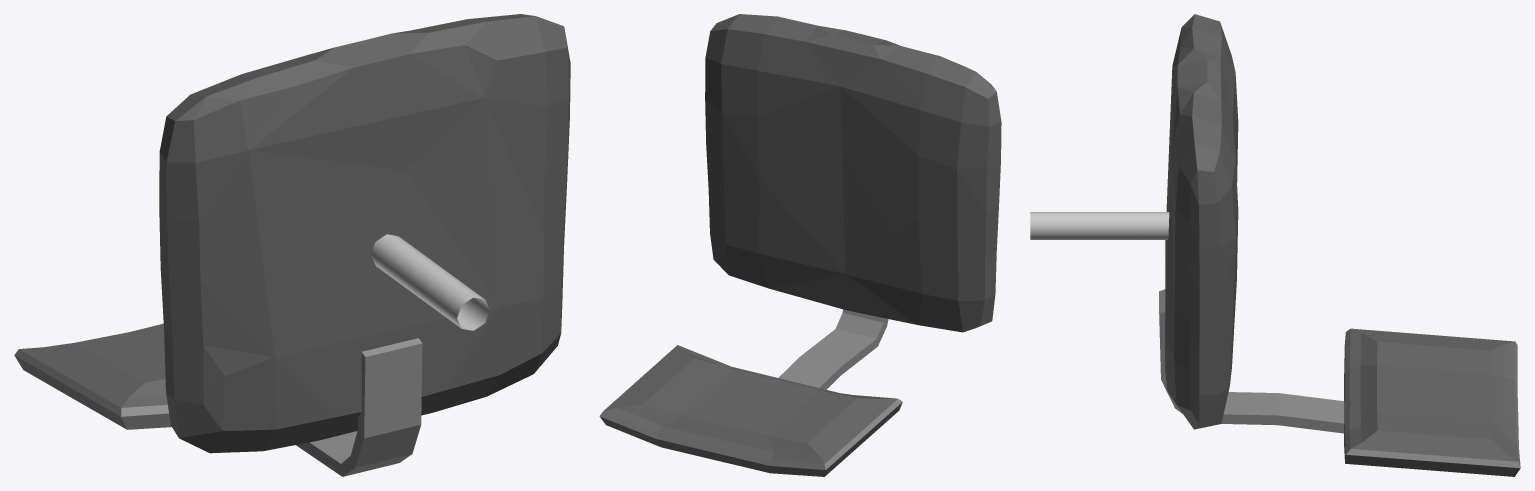
Rendered from Chair_Body.glb.
3 renders of one model, left to right at view 1: azimuth 30°, elevation 25°; view 2: azimuth 150°, elevation 25°; view 3: azimuth 270°, elevation 25°, orthographic. The views are drawn at different scales.
Visible parts, largest first — view 1: Chair Body; view 2: Chair Body; view 3: Chair Body.
Part boxes in pixels (<box>): Chair Body: <box>14,14,570,476</box>; Chair Body: <box>599,14,1001,476</box>; Chair Body: <box>1030,14,1520,476</box>.
Bounding box in the file's own units: 0.5446 × 0.5729 × 0.7113.
1 material, 1 textured.
